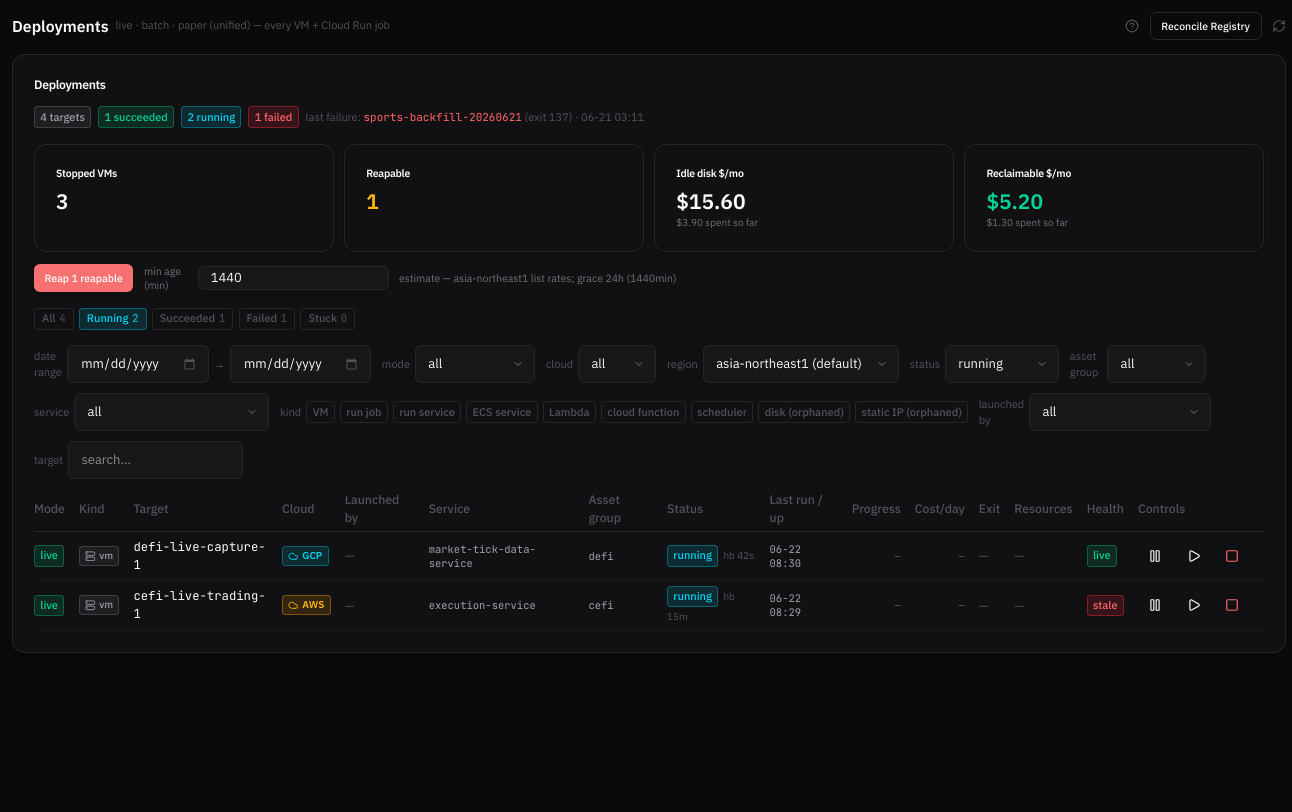
Test: Deployments page (unified all-modes table) › clicking an idle-spend rollup card applies the status=stopped filter (idle-spend discoverability)
Click the button with test id "deployments-orphans-card-stopped": click(87, 172) [34, 144, 334, 252]
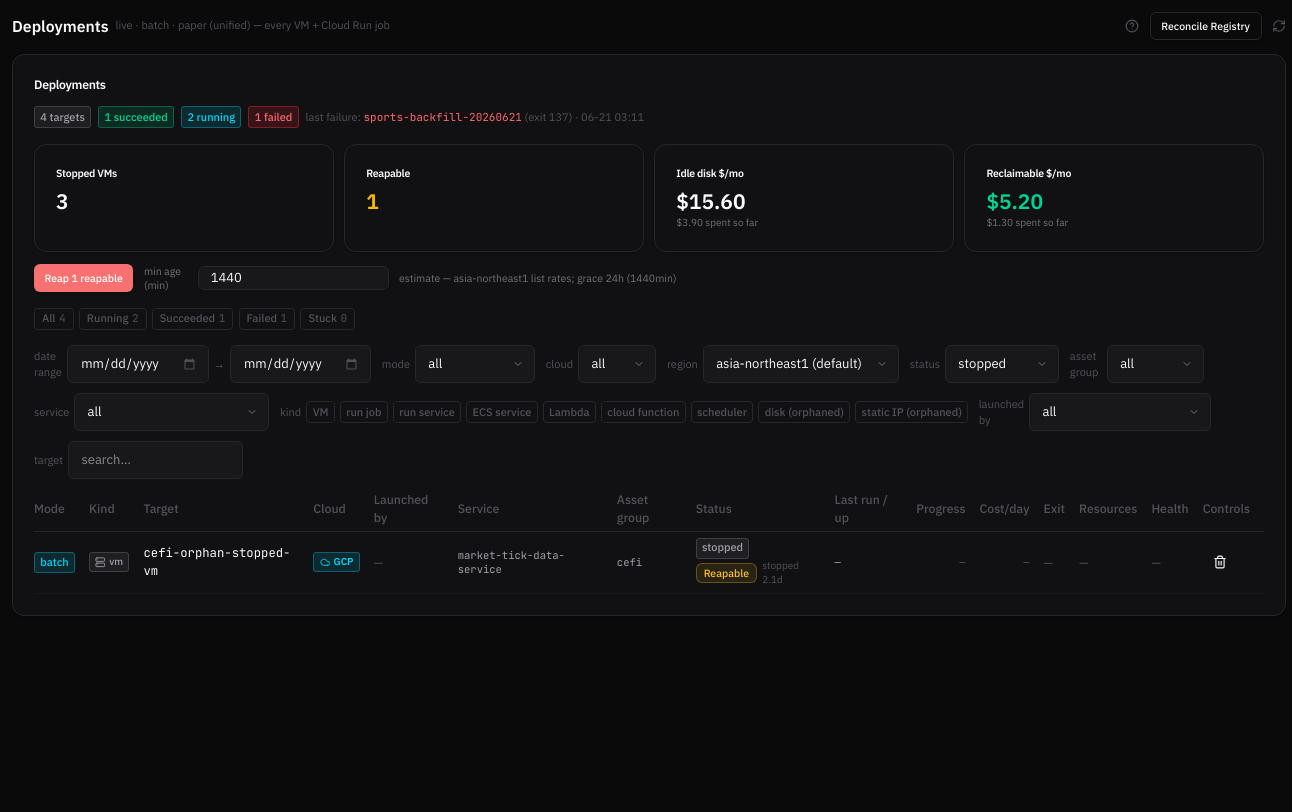
Now the row with test id "deployment-row-cefi-orphan-stopped-vm" is shown, box [34, 532, 1264, 593]
